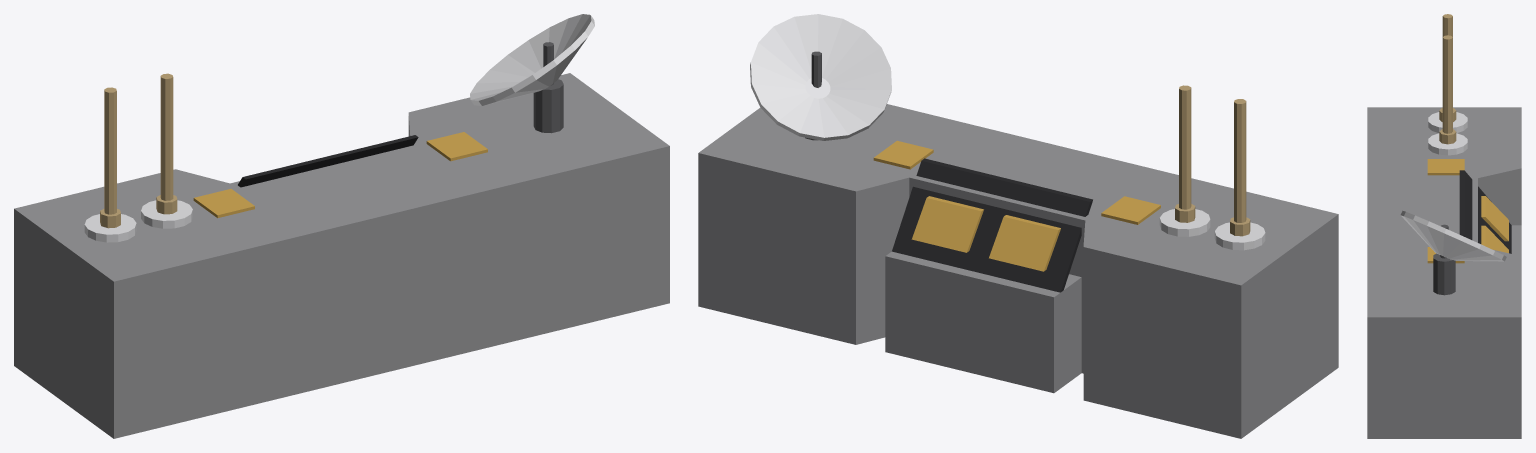
File: vge_comms_terminal.obj
3 renders of one model, left to right at view 1: azimuth 30°, elevation 25°; view 2: azimuth 150°, elevation 25°; view 3: azimuth 270°, elevation 25°, orthographic. The views are drawn at different scales.
Visible parts, largest first — view 1: vge_comms_terminal_0, vge_comms_terminal_14, vge_comms_terminal_2, vge_comms_terminal_11, vge_comms_terminal_8, vge_comms_terminal_13, vge_comms_terminal_5, vge_comms_terminal_6, vge_comms_terminal_10, vge_comms_terminal_7; view 2: vge_comms_terminal_0, vge_comms_terminal_1, vge_comms_terminal_14, vge_comms_terminal_2, vge_comms_terminal_4, vge_comms_terminal_3, vge_comms_terminal_11, vge_comms_terminal_8, vge_comms_terminal_6, vge_comms_terminal_5, vge_comms_terminal_10, vge_comms_terminal_7; view 3: vge_comms_terminal_0, vge_comms_terminal_14, vge_comms_terminal_2, vge_comms_terminal_11, vge_comms_terminal_13, vge_comms_terminal_3, vge_comms_terminal_5, vge_comms_terminal_10, vge_comms_terminal_7, vge_comms_terminal_4, vge_comms_terminal_1, vge_comms_terminal_8 (+1 smaller).
Part boxes in pixels (box(x1,y1,x2,y2)): vge_comms_terminal_0: box(14, 73, 669, 438); vge_comms_terminal_14: box(470, 14, 594, 105); vge_comms_terminal_2: box(238, 135, 418, 187); vge_comms_terminal_11: box(160, 73, 173, 200); vge_comms_terminal_8: box(104, 87, 116, 214); vge_comms_terminal_13: box(533, 79, 563, 133); vge_comms_terminal_5: box(193, 189, 254, 218); vge_comms_terminal_6: box(426, 132, 487, 161); vge_comms_terminal_10: box(141, 200, 192, 228); vge_comms_terminal_7: box(84, 214, 136, 242); vge_comms_terminal_0: box(698, 104, 1338, 438); vge_comms_terminal_1: box(885, 251, 1081, 393); vge_comms_terminal_14: box(750, 14, 891, 140); vge_comms_terminal_2: box(892, 158, 1092, 292); vge_comms_terminal_4: box(911, 196, 983, 252); vge_comms_terminal_3: box(989, 215, 1060, 271); vge_comms_terminal_11: box(1179, 85, 1191, 209); vge_comms_terminal_8: box(1234, 99, 1246, 222); vge_comms_terminal_6: box(873, 140, 933, 169); vge_comms_terminal_5: box(1101, 196, 1160, 224); vge_comms_terminal_10: box(1159, 209, 1210, 236); vge_comms_terminal_7: box(1214, 222, 1265, 250); vge_comms_terminal_0: box(1367, 107, 1521, 438); vge_comms_terminal_14: box(1400, 210, 1506, 261); vge_comms_terminal_2: box(1459, 170, 1511, 253); vge_comms_terminal_11: box(1442, 35, 1452, 133); vge_comms_terminal_13: box(1433, 253, 1455, 295); vge_comms_terminal_3: box(1481, 196, 1508, 241); vge_comms_terminal_5: box(1427, 159, 1464, 175); vge_comms_terminal_10: box(1428, 133, 1467, 155); vge_comms_terminal_7: box(1428, 112, 1467, 133); vge_comms_terminal_4: box(1481, 225, 1508, 253); vge_comms_terminal_1: box(1511, 225, 1521, 255); vge_comms_terminal_8: box(1442, 14, 1452, 36).
Bounding box in the file's own units: 2.96 × 1.52 × 0.92.
